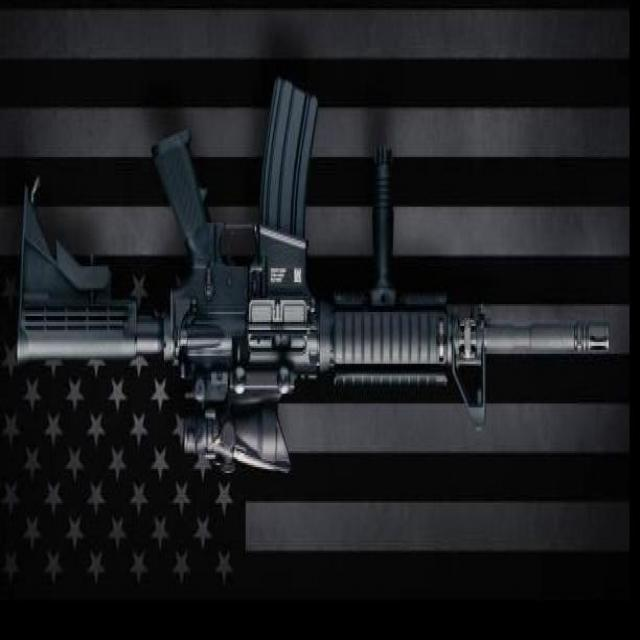weapon: (16, 80, 612, 474)
